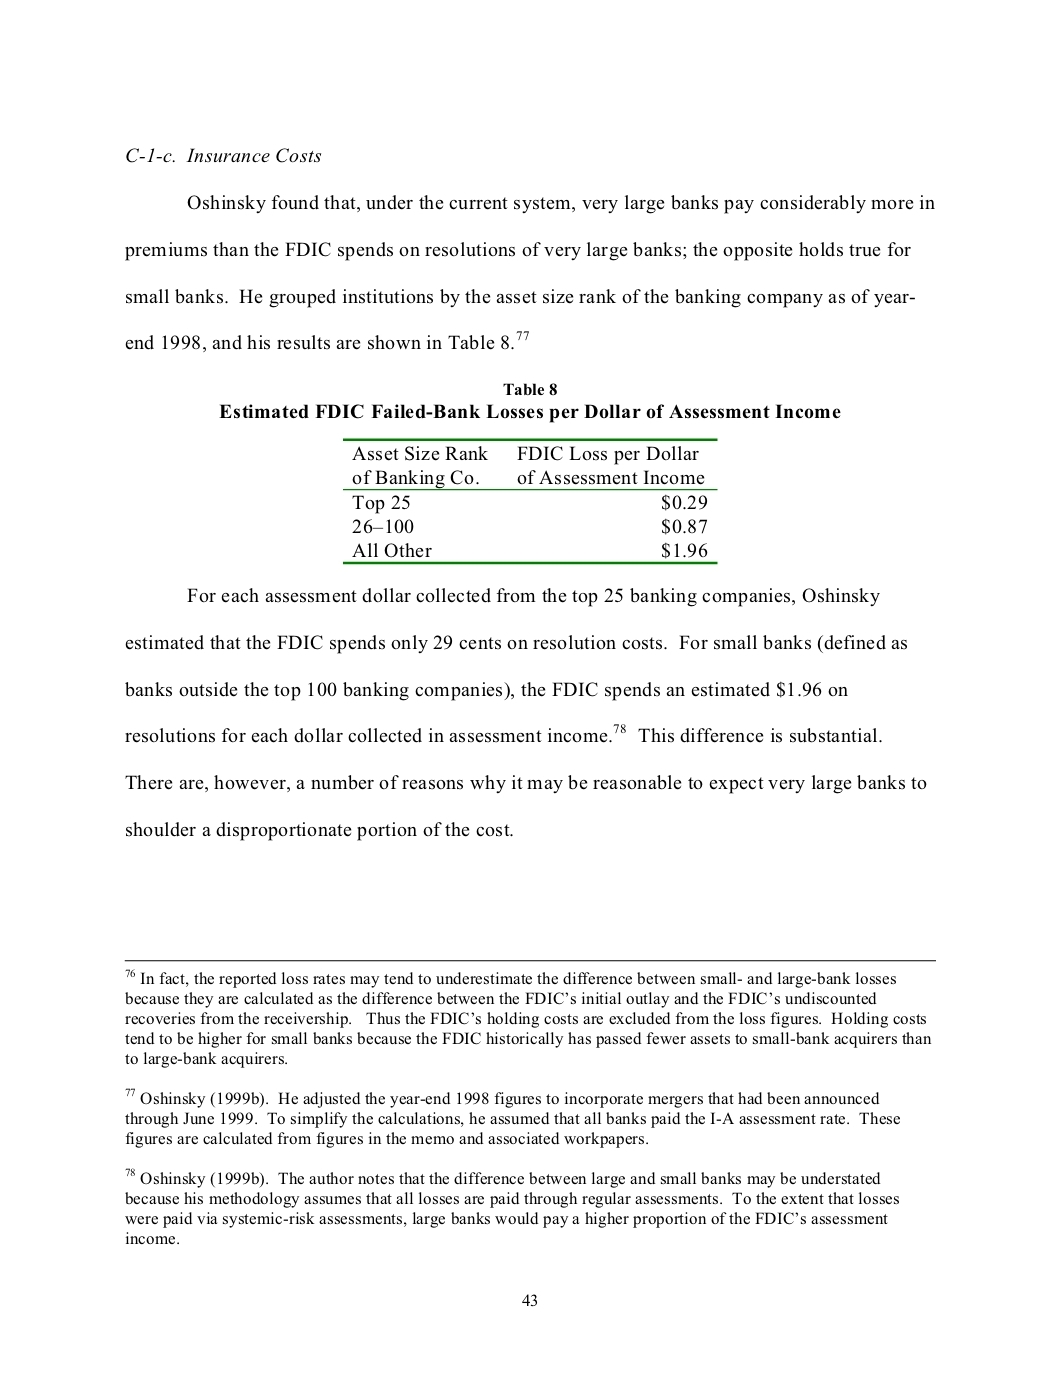Table: (342, 438, 717, 564)
